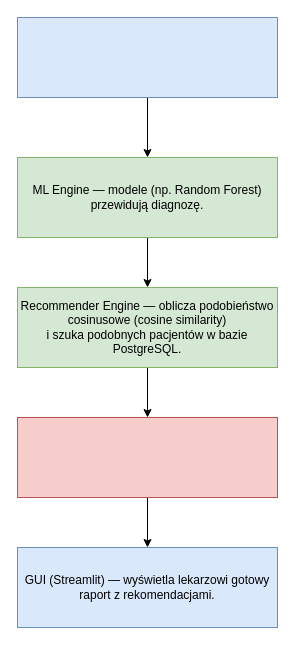
The diagram is 295 pixels wide and 645 high, and some of its shapes have lost their labels. The centre of each missing label's shape, as x and y in pixels:
Baza PostgreSQL — zapisuje wynik wizyty i pobiera przypisane leki oraz diety.: the point at 147,457
Lekarz wybiera objawy w GUI (Streamlit).: the point at 147,57
